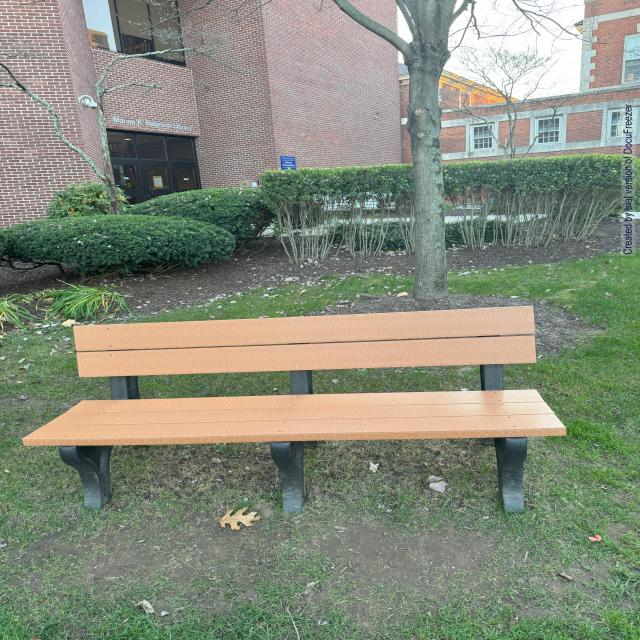chair: (9, 299, 626, 537)
